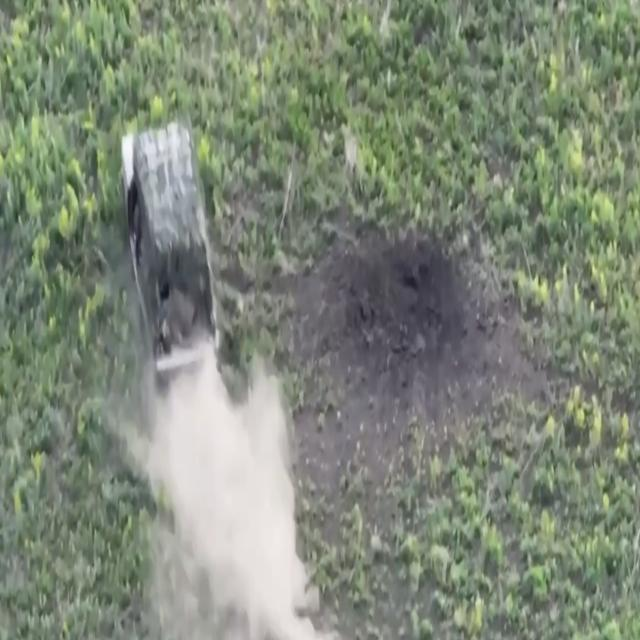vehicle: (120, 128, 218, 376)
